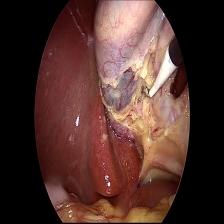Hook: (139, 44, 178, 104)
